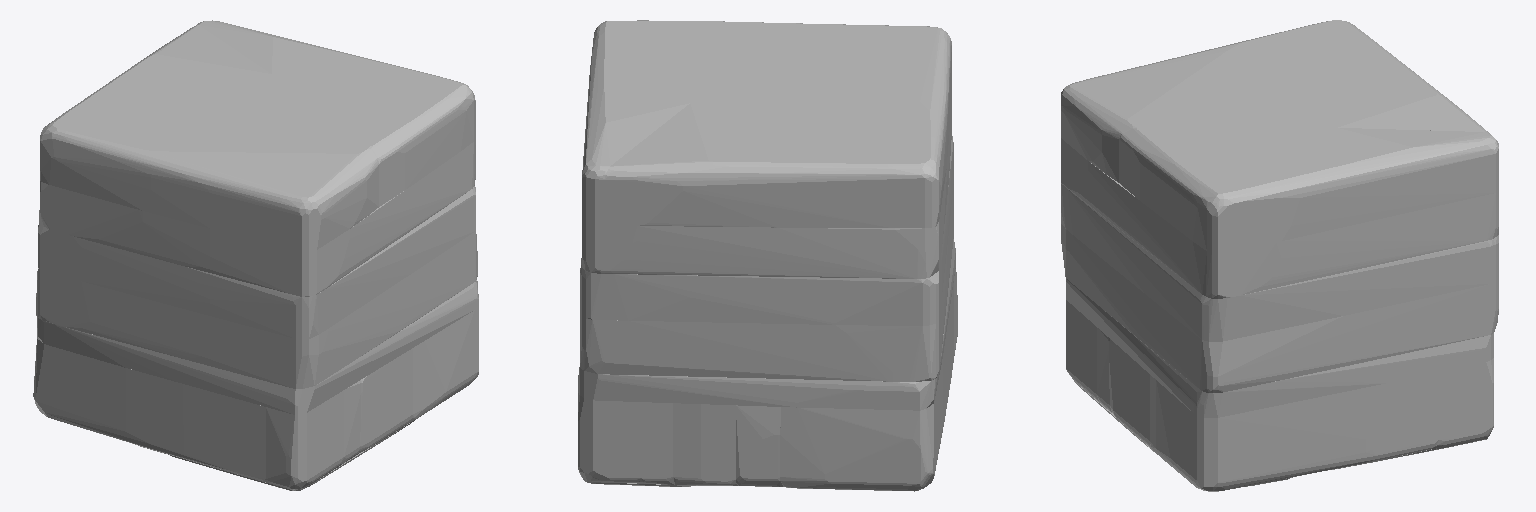
URDF robot description (root):
<robot name="root">
  <link name="body">
    <visual>
      <origin xyz="0 0 0" rpy="0 0 0"/>
      <geometry>
        <mesh filename="coacd_convex_piece_0.obj" scale="1.0000E+00 1.0000E+00 1.0000E+00"/>
      </geometry>
      <material name="">
        <color rgba="7.50E-01 7.50E-01 7.50E-01 1"/>
      </material>
    </visual>
    <collision>
      <origin xyz="0 0 0" rpy="0 0 0"/>
      <geometry>
        <mesh filename="coacd_convex_piece_0.obj" scale="1.0000E+00 1.0000E+00 1.0000E+00"/>
      </geometry>
    </collision>
    <visual>
      <origin xyz="0 0 0" rpy="0 0 0"/>
      <geometry>
        <mesh filename="coacd_convex_piece_1.obj" scale="1.0000E+00 1.0000E+00 1.0000E+00"/>
      </geometry>
      <material name="">
        <color rgba="7.50E-01 7.50E-01 7.50E-01 1"/>
      </material>
    </visual>
    <collision>
      <origin xyz="0 0 0" rpy="0 0 0"/>
      <geometry>
        <mesh filename="coacd_convex_piece_1.obj" scale="1.0000E+00 1.0000E+00 1.0000E+00"/>
      </geometry>
    </collision>
    <visual>
      <origin xyz="0 0 0" rpy="0 0 0"/>
      <geometry>
        <mesh filename="coacd_convex_piece_2.obj" scale="1.0000E+00 1.0000E+00 1.0000E+00"/>
      </geometry>
      <material name="">
        <color rgba="7.50E-01 7.50E-01 7.50E-01 1"/>
      </material>
    </visual>
    <collision>
      <origin xyz="0 0 0" rpy="0 0 0"/>
      <geometry>
        <mesh filename="coacd_convex_piece_2.obj" scale="1.0000E+00 1.0000E+00 1.0000E+00"/>
      </geometry>
    </collision>
    <visual>
      <origin xyz="0 0 0" rpy="0 0 0"/>
      <geometry>
        <mesh filename="coacd_convex_piece_3.obj" scale="1.0000E+00 1.0000E+00 1.0000E+00"/>
      </geometry>
      <material name="">
        <color rgba="7.50E-01 7.50E-01 7.50E-01 1"/>
      </material>
    </visual>
    <collision>
      <origin xyz="0 0 0" rpy="0 0 0"/>
      <geometry>
        <mesh filename="coacd_convex_piece_3.obj" scale="1.0000E+00 1.0000E+00 1.0000E+00"/>
      </geometry>
    </collision>
    <visual>
      <origin xyz="0 0 0" rpy="0 0 0"/>
      <geometry>
        <mesh filename="coacd_convex_piece_4.obj" scale="1.0000E+00 1.0000E+00 1.0000E+00"/>
      </geometry>
      <material name="">
        <color rgba="7.50E-01 7.50E-01 7.50E-01 1"/>
      </material>
    </visual>
    <collision>
      <origin xyz="0 0 0" rpy="0 0 0"/>
      <geometry>
        <mesh filename="coacd_convex_piece_4.obj" scale="1.0000E+00 1.0000E+00 1.0000E+00"/>
      </geometry>
    </collision>
    <visual>
      <origin xyz="0 0 0" rpy="0 0 0"/>
      <geometry>
        <mesh filename="coacd_convex_piece_5.obj" scale="1.0000E+00 1.0000E+00 1.0000E+00"/>
      </geometry>
      <material name="">
        <color rgba="7.50E-01 7.50E-01 7.50E-01 1"/>
      </material>
    </visual>
    <collision>
      <origin xyz="0 0 0" rpy="0 0 0"/>
      <geometry>
        <mesh filename="coacd_convex_piece_5.obj" scale="1.0000E+00 1.0000E+00 1.0000E+00"/>
      </geometry>
    </collision>
    <visual>
      <origin xyz="0 0 0" rpy="0 0 0"/>
      <geometry>
        <mesh filename="coacd_convex_piece_6.obj" scale="1.0000E+00 1.0000E+00 1.0000E+00"/>
      </geometry>
      <material name="">
        <color rgba="7.50E-01 7.50E-01 7.50E-01 1"/>
      </material>
    </visual>
    <collision>
      <origin xyz="0 0 0" rpy="0 0 0"/>
      <geometry>
        <mesh filename="coacd_convex_piece_6.obj" scale="1.0000E+00 1.0000E+00 1.0000E+00"/>
      </geometry>
    </collision>
    <visual>
      <origin xyz="0 0 0" rpy="0 0 0"/>
      <geometry>
        <mesh filename="coacd_convex_piece_7.obj" scale="1.0000E+00 1.0000E+00 1.0000E+00"/>
      </geometry>
      <material name="">
        <color rgba="7.50E-01 7.50E-01 7.50E-01 1"/>
      </material>
    </visual>
    <collision>
      <origin xyz="0 0 0" rpy="0 0 0"/>
      <geometry>
        <mesh filename="coacd_convex_piece_7.obj" scale="1.0000E+00 1.0000E+00 1.0000E+00"/>
      </geometry>
    </collision>
    <visual>
      <origin xyz="0 0 0" rpy="0 0 0"/>
      <geometry>
        <mesh filename="coacd_convex_piece_8.obj" scale="1.0000E+00 1.0000E+00 1.0000E+00"/>
      </geometry>
      <material name="">
        <color rgba="7.50E-01 7.50E-01 7.50E-01 1"/>
      </material>
    </visual>
    <collision>
      <origin xyz="0 0 0" rpy="0 0 0"/>
      <geometry>
        <mesh filename="coacd_convex_piece_8.obj" scale="1.0000E+00 1.0000E+00 1.0000E+00"/>
      </geometry>
    </collision>
    <visual>
      <origin xyz="0 0 0" rpy="0 0 0"/>
      <geometry>
        <mesh filename="coacd_convex_piece_9.obj" scale="1.0000E+00 1.0000E+00 1.0000E+00"/>
      </geometry>
      <material name="">
        <color rgba="7.50E-01 7.50E-01 7.50E-01 1"/>
      </material>
    </visual>
    <collision>
      <origin xyz="0 0 0" rpy="0 0 0"/>
      <geometry>
        <mesh filename="coacd_convex_piece_9.obj" scale="1.0000E+00 1.0000E+00 1.0000E+00"/>
      </geometry>
    </collision>
    <visual>
      <origin xyz="0 0 0" rpy="0 0 0"/>
      <geometry>
        <mesh filename="coacd_convex_piece_10.obj" scale="1.0000E+00 1.0000E+00 1.0000E+00"/>
      </geometry>
      <material name="">
        <color rgba="7.50E-01 7.50E-01 7.50E-01 1"/>
      </material>
    </visual>
    <collision>
      <origin xyz="0 0 0" rpy="0 0 0"/>
      <geometry>
        <mesh filename="coacd_convex_piece_10.obj" scale="1.0000E+00 1.0000E+00 1.0000E+00"/>
      </geometry>
    </collision>
    <visual>
      <origin xyz="0 0 0" rpy="0 0 0"/>
      <geometry>
        <mesh filename="coacd_convex_piece_11.obj" scale="1.0000E+00 1.0000E+00 1.0000E+00"/>
      </geometry>
      <material name="">
        <color rgba="7.50E-01 7.50E-01 7.50E-01 1"/>
      </material>
    </visual>
    <collision>
      <origin xyz="0 0 0" rpy="0 0 0"/>
      <geometry>
        <mesh filename="coacd_convex_piece_11.obj" scale="1.0000E+00 1.0000E+00 1.0000E+00"/>
      </geometry>
    </collision>
    <visual>
      <origin xyz="0 0 0" rpy="0 0 0"/>
      <geometry>
        <mesh filename="coacd_convex_piece_12.obj" scale="1.0000E+00 1.0000E+00 1.0000E+00"/>
      </geometry>
      <material name="">
        <color rgba="7.50E-01 7.50E-01 7.50E-01 1"/>
      </material>
    </visual>
    <collision>
      <origin xyz="0 0 0" rpy="0 0 0"/>
      <geometry>
        <mesh filename="coacd_convex_piece_12.obj" scale="1.0000E+00 1.0000E+00 1.0000E+00"/>
      </geometry>
    </collision>
    <visual>
      <origin xyz="0 0 0" rpy="0 0 0"/>
      <geometry>
        <mesh filename="coacd_convex_piece_13.obj" scale="1.0000E+00 1.0000E+00 1.0000E+00"/>
      </geometry>
      <material name="">
        <color rgba="7.50E-01 7.50E-01 7.50E-01 1"/>
      </material>
    </visual>
    <collision>
      <origin xyz="0 0 0" rpy="0 0 0"/>
      <geometry>
        <mesh filename="coacd_convex_piece_13.obj" scale="1.0000E+00 1.0000E+00 1.0000E+00"/>
      </geometry>
    </collision>
    <visual>
      <origin xyz="0 0 0" rpy="0 0 0"/>
      <geometry>
        <mesh filename="coacd_convex_piece_14.obj" scale="1.0000E+00 1.0000E+00 1.0000E+00"/>
      </geometry>
      <material name="">
        <color rgba="7.50E-01 7.50E-01 7.50E-01 1"/>
      </material>
    </visual>
    <collision>
      <origin xyz="0 0 0" rpy="0 0 0"/>
      <geometry>
        <mesh filename="coacd_convex_piece_14.obj" scale="1.0000E+00 1.0000E+00 1.0000E+00"/>
      </geometry>
    </collision>
    <visual>
      <origin xyz="0 0 0" rpy="0 0 0"/>
      <geometry>
        <mesh filename="coacd_convex_piece_15.obj" scale="1.0000E+00 1.0000E+00 1.0000E+00"/>
      </geometry>
      <material name="">
        <color rgba="7.50E-01 7.50E-01 7.50E-01 1"/>
      </material>
    </visual>
    <collision>
      <origin xyz="0 0 0" rpy="0 0 0"/>
      <geometry>
        <mesh filename="coacd_convex_piece_15.obj" scale="1.0000E+00 1.0000E+00 1.0000E+00"/>
      </geometry>
    </collision>
  </link>
    <link name="base">
        <visual>
      <origin xyz="0 0 0" rpy="0 0 0"/>
      <geometry>
        <mesh filename="coacd_convex_piece_0.obj" scale="1.0000E-05 1.0000E-05 1.0000E-05"/>
      </geometry>
      <material name="">
        <color rgba="7.50E-01 7.50E-01 7.50E-01 1"/>
      </material>
    </visual>
    <collision>
      <origin xyz="0 0 0" rpy="0 0 0"/>
      <geometry>
        <mesh filename="coacd_convex_piece_0.obj" scale="1.0000E-05 1.0000E-05 1.0000E-05"/>
      </geometry>
    </collision>
  </link>
<!--  <link name="base1"></link>-->
<!--  <joint name="joint1" type="fixed">-->
<!--    <origin xyz="0 0 0" rpy="0 0 0"/>-->
<!--    <parent link="base"/>-->
<!--    <child link="body"/>-->
<!--  </joint>-->
  <joint name="joint_use" type="revolute">
    <origin xyz="0 0 0" rpy="0 0 0"/>
    <parent link="body"/>
    <child link="base"/>
    <axis xyz="0 0 1"/>
    <limit lower="0.00" upper="1"/>
  </joint>
</robot>

--- Facts derived from the render (not from the file) ---
Views: 3 orthographic renders of the robot side by side, from view 1: azimuth 30°, elevation 25°; view 2: azimuth 150°, elevation 25°; view 3: azimuth 270°, elevation 25°.
Robot: root — 2 links, 1 joints (1 revolute); root link body; default pose: all joints at 0.
Links seen in each view (by area): view 1: body; view 2: body; view 3: body.
Boxes of the visible links, x1,y1,x2,y2 form: body: [33, 20, 478, 490]; body: [578, 20, 957, 491]; body: [1061, 20, 1498, 491].
Size in the robot's own frame: 1.56 by 1.56 by 1.19 metres.
17 mesh visuals loaded from 16 distinct referenced files (16 OBJ).